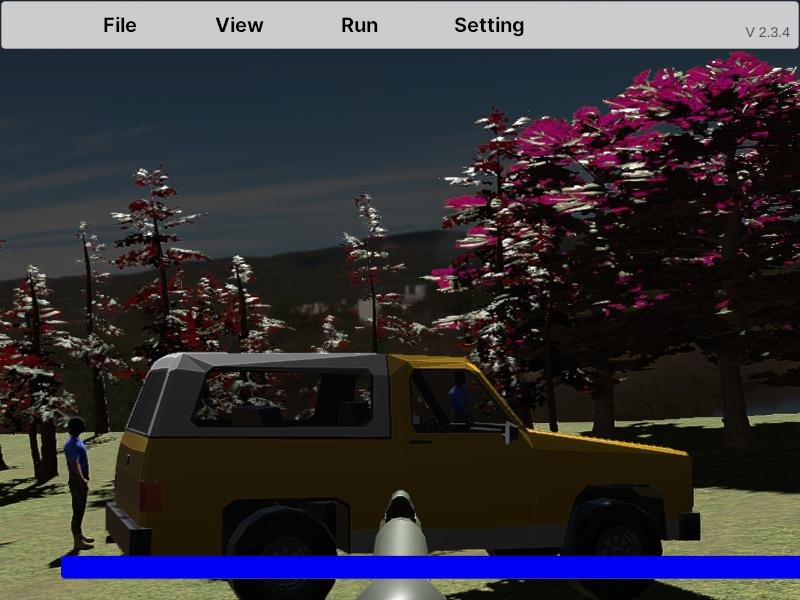Human: (65, 415, 94, 554)
car: (103, 350, 694, 598)
